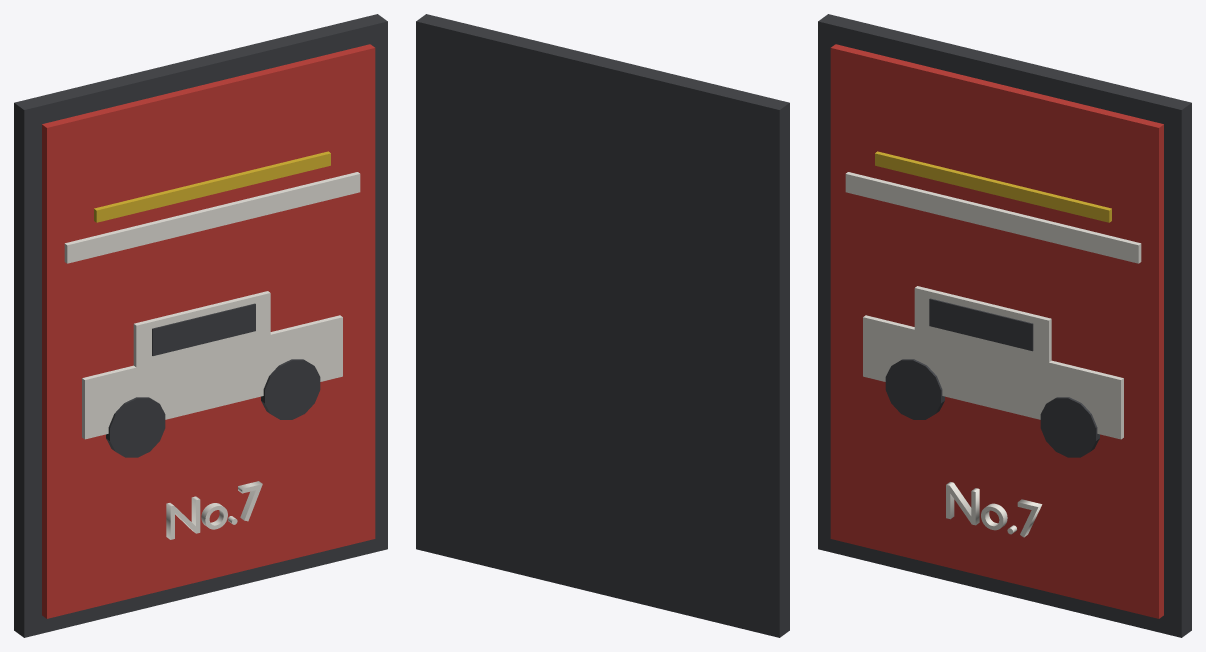
Rendered from poster_red.glb.
3 views of the same model, side by side, from view 1: azimuth 30°, elevation 25°; view 2: azimuth 150°, elevation 25°; view 3: azimuth 330°, elevation 25° (orthographic).
Parts seen in each view (by area): view 1: poster_red; view 2: poster_red; view 3: poster_red.
Part boxes in pixels (<box>): poster_red: <box>14,14,387,637</box>; poster_red: <box>416,14,789,637</box>; poster_red: <box>818,14,1191,637</box>.
Size of the model in its own units: 0.62 by 0.86 by 0.057.
